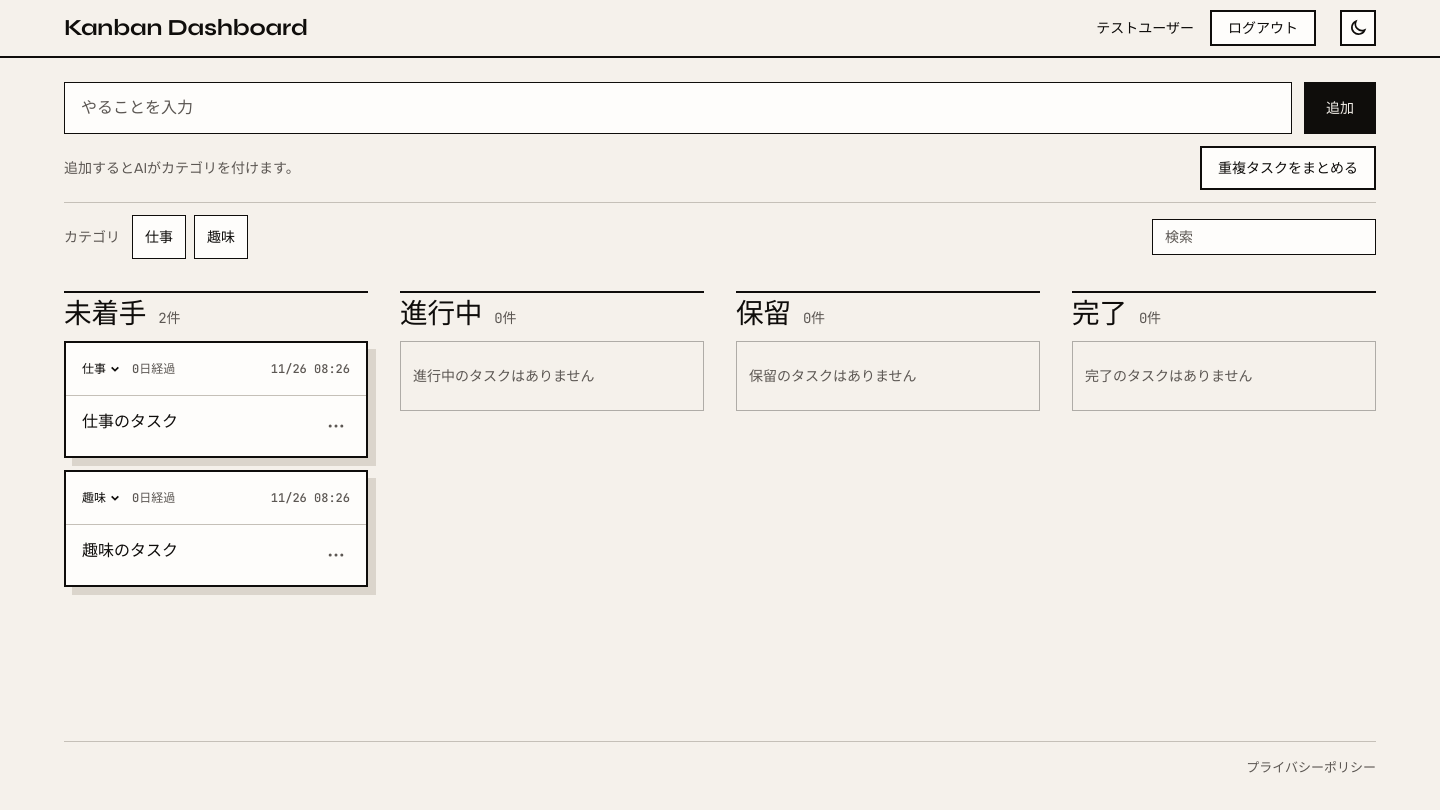
Test: KanbanBoard category filter › narrows the board to the selected category, and clears back to showing everything
expect the text "仕事のタスク" is shown: met, box [82,411,178,432]
expect the text "趣味のタスク" is shown: met, box [82,540,178,561]
Click the button "仕事" below "追加するとAIがカテゴリを付けます。". click: (159, 237)
box: [132,215,186,259]
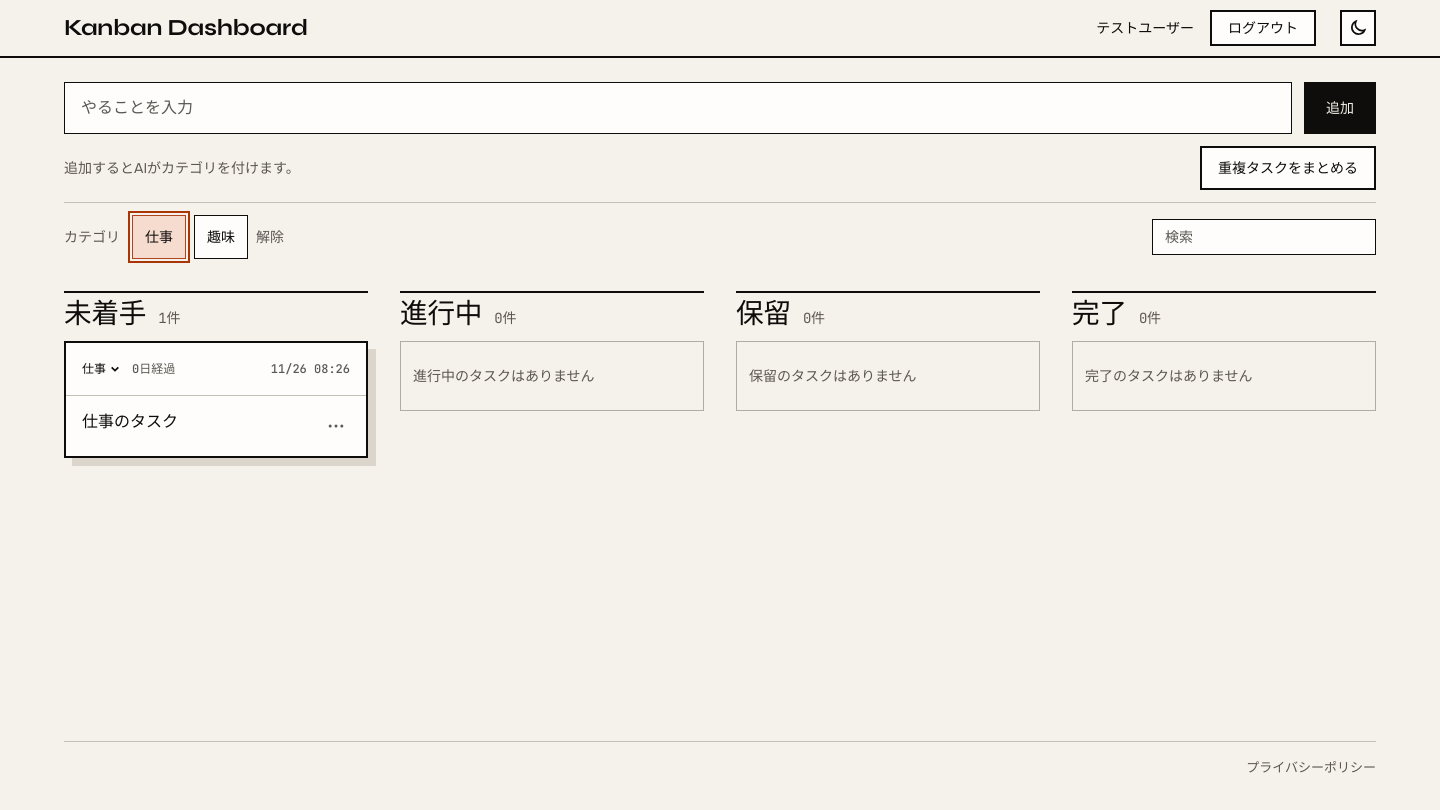
expect the text "仕事のタスク" is shown: met, box [82,411,178,432]
expect the text "趣味のタスク" is gone: met
Click the button "解除". click: (270, 237)
box: [252,215,288,259]
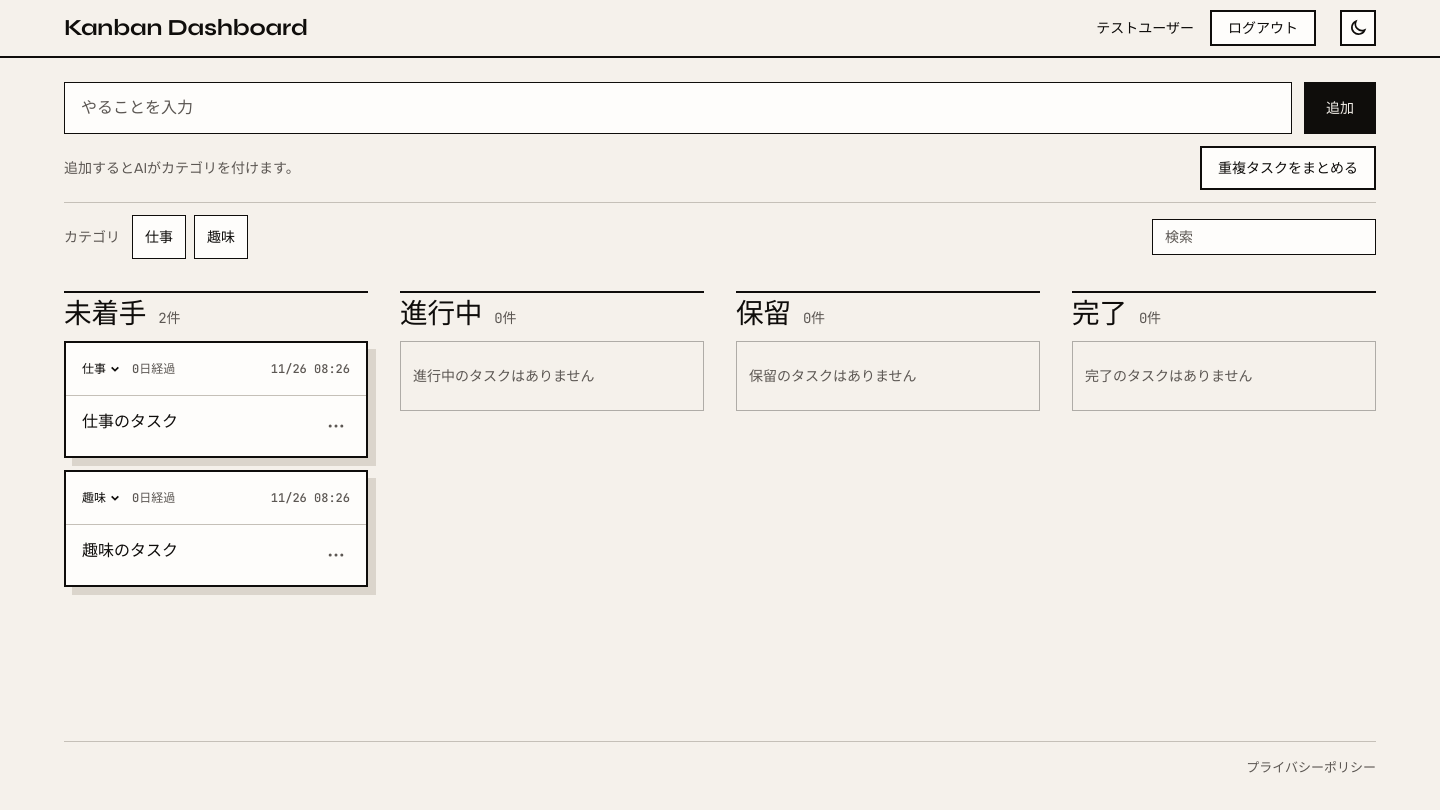
expect the text "仕事のタスク" is shown: met, box [82,411,178,432]
expect the text "趣味のタスク" is shown: met, box [82,540,178,561]
